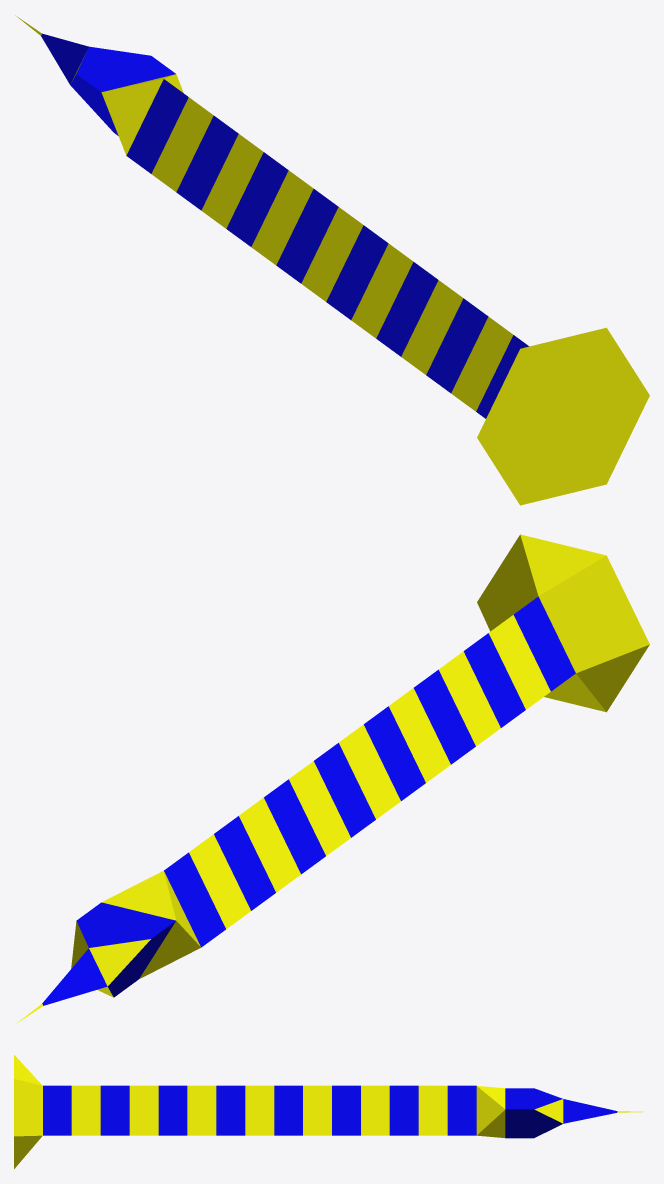
Rendered from New_Hope_Tower 1.fbx.
3 views of the same model, one above another, from view 1: azimuth 30°, elevation 25°; view 2: azimuth 150°, elevation 25°; view 3: azimuth 270°, elevation 25° (orthographic). The views are drawn at different scales.
Parts seen in each view (by area): view 1: imagetostl_mesh39, imagetostl_mesh27, imagetostl_mesh52, imagetostl_mesh55, imagetostl_mesh48, imagetostl_mesh56, imagetostl_mesh65, imagetostl_mesh47, imagetostl_mesh51, imagetostl_mesh46, imagetostl_mesh64, imagetostl_mesh66 (+8 smaller); view 2: imagetostl_mesh59, imagetostl_mesh61, imagetostl_mesh27, imagetostl_mesh46, imagetostl_mesh47, imagetostl_mesh48, imagetostl_mesh53, imagetostl_mesh54, imagetostl_mesh65, imagetostl_mesh41, imagetostl_mesh55, imagetostl_mesh57 (+14 smaller); view 3: imagetostl_mesh61, imagetostl_mesh43, imagetostl_mesh44, imagetostl_mesh45, imagetostl_mesh68, imagetostl_mesh71, imagetostl_mesh72, imagetostl_mesh73, imagetostl_mesh95, imagetostl_mesh96, imagetostl_mesh70, imagetostl_mesh42 (+13 smaller).
Boxes of the visible parts, bbox=[...] form: imagetostl_mesh39: bbox=[477, 327, 649, 505]; imagetostl_mesh27: bbox=[76, 46, 175, 92]; imagetostl_mesh52: bbox=[176, 115, 238, 210]; imagetostl_mesh55: bbox=[251, 170, 313, 265]; imagetostl_mesh48: bbox=[451, 316, 513, 411]; imagetostl_mesh56: bbox=[276, 189, 338, 283]; imagetostl_mesh65: bbox=[351, 243, 413, 338]; imagetostl_mesh47: bbox=[426, 298, 488, 392]; imagetostl_mesh51: bbox=[151, 97, 213, 191]; imagetostl_mesh46: bbox=[401, 280, 463, 374]; imagetostl_mesh64: bbox=[326, 225, 388, 319]; imagetostl_mesh66: bbox=[376, 262, 438, 356]; imagetostl_mesh59: bbox=[538, 555, 649, 673]; imagetostl_mesh61: bbox=[477, 534, 538, 631]; imagetostl_mesh27: bbox=[76, 902, 175, 947]; imagetostl_mesh46: bbox=[438, 651, 500, 746]; imagetostl_mesh47: bbox=[463, 633, 525, 727]; imagetostl_mesh48: bbox=[488, 615, 550, 709]; imagetostl_mesh53: bbox=[239, 797, 300, 892]; imagetostl_mesh54: bbox=[264, 779, 325, 874]; imagetostl_mesh65: bbox=[389, 688, 450, 782]; imagetostl_mesh41: bbox=[513, 596, 575, 691]; imagetostl_mesh55: bbox=[289, 761, 350, 855]; imagetostl_mesh57: bbox=[339, 724, 400, 819]; imagetostl_mesh61: bbox=[14, 1079, 42, 1136]; imagetostl_mesh43: bbox=[71, 1085, 100, 1135]; imagetostl_mesh44: bbox=[100, 1085, 129, 1135]; imagetostl_mesh45: bbox=[129, 1085, 158, 1135]; imagetostl_mesh68: bbox=[447, 1085, 476, 1135]; imagetostl_mesh71: bbox=[187, 1085, 216, 1135]; imagetostl_mesh72: bbox=[216, 1085, 245, 1135]; imagetostl_mesh73: bbox=[245, 1085, 274, 1135]; imagetostl_mesh95: bbox=[389, 1085, 418, 1135]; imagetostl_mesh96: bbox=[418, 1085, 447, 1135]; imagetostl_mesh70: bbox=[158, 1085, 187, 1135]; imagetostl_mesh42: bbox=[43, 1085, 71, 1135].
Bounding box in the file's own units: 720000 × 623538 × 3960000.
